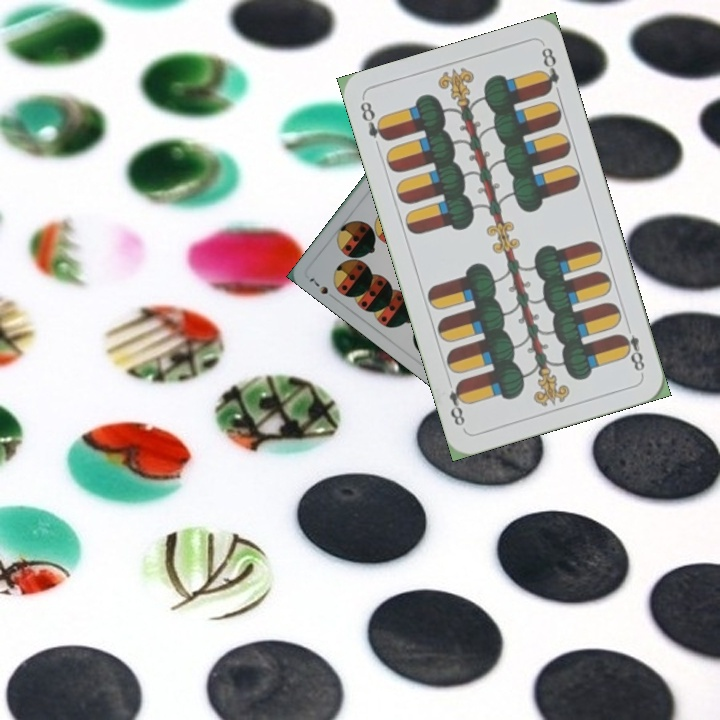E8: (616, 319, 648, 377), (356, 97, 391, 144)
S7: (306, 272, 331, 297)
